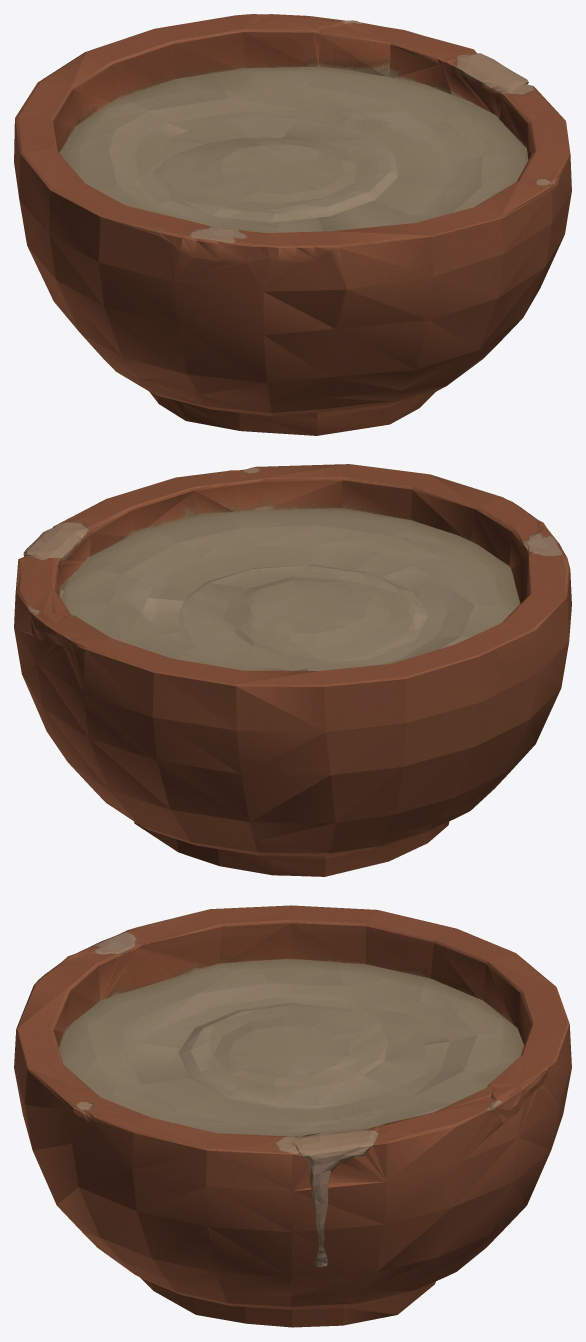
The model's file is claybowl.glb.
3 views of the same model, one above another, from view 1: azimuth 30°, elevation 25°; view 2: azimuth 150°, elevation 25°; view 3: azimuth 270°, elevation 25° (orthographic).
Visible parts, largest first — view 1: tripo_node_aaf53546-083b-4395-8239-0ed541b2877d; view 2: tripo_node_aaf53546-083b-4395-8239-0ed541b2877d; view 3: tripo_node_aaf53546-083b-4395-8239-0ed541b2877d.
Boxes of the visible parts, bbox=[...] form: tripo_node_aaf53546-083b-4395-8239-0ed541b2877d: bbox=[14, 14, 571, 435]; tripo_node_aaf53546-083b-4395-8239-0ed541b2877d: bbox=[14, 464, 571, 876]; tripo_node_aaf53546-083b-4395-8239-0ed541b2877d: bbox=[14, 905, 571, 1327].
Size of the model in its own units: 0.998 by 0.4785 by 0.9941.
Materials: 1 (1 with a texture image).
